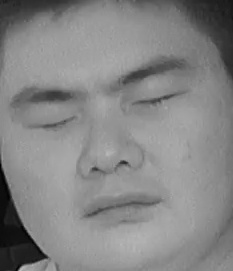blink: (135, 81, 185, 115), (32, 109, 77, 139)
mouth: (78, 185, 159, 232)
